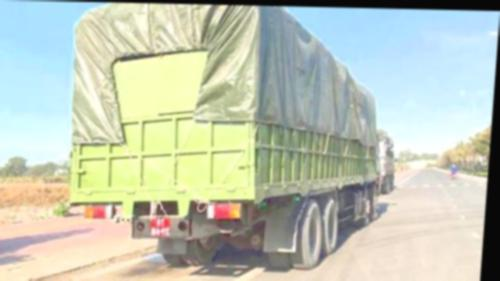License_Plate: (142, 216, 179, 242)
